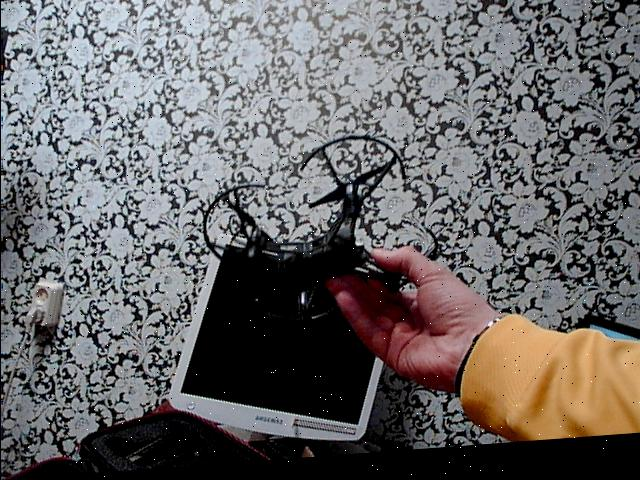drone: (197, 128, 419, 348)
